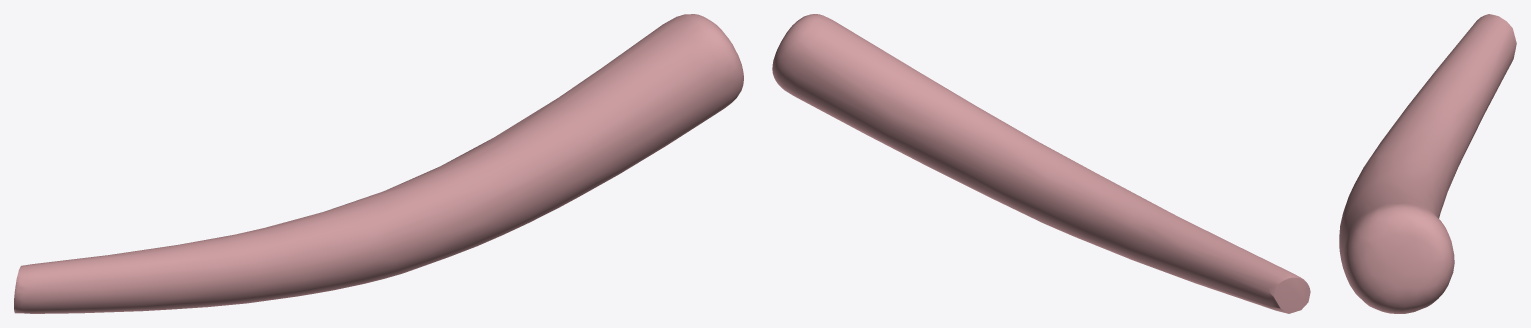
The model's file is fma68220_fj6558.glb.
3 renders of one model, left to right at view 1: azimuth 30°, elevation 25°; view 2: azimuth 150°, elevation 25°; view 3: azimuth 270°, elevation 25°, orthographic. The views are drawn at different scales.
Visible parts, largest first — view 1: FMA68220_FJ6558; view 2: FMA68220_FJ6558; view 3: FMA68220_FJ6558.
Boxes of the visible parts, x1,y1,x2,y2 form: FMA68220_FJ6558: (14, 14, 743, 313); FMA68220_FJ6558: (772, 14, 1310, 313); FMA68220_FJ6558: (1339, 14, 1516, 313).
Size of the model in its own units: 0.0351 by 0.00909 by 0.00734.
